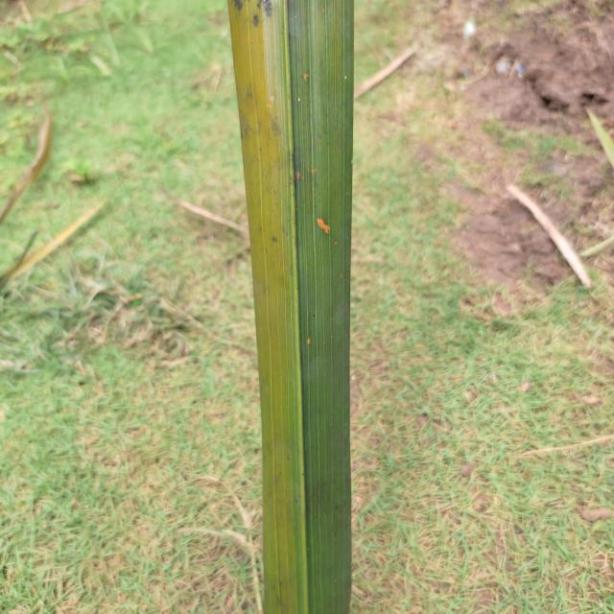Kalium: (227, 0, 357, 614)
